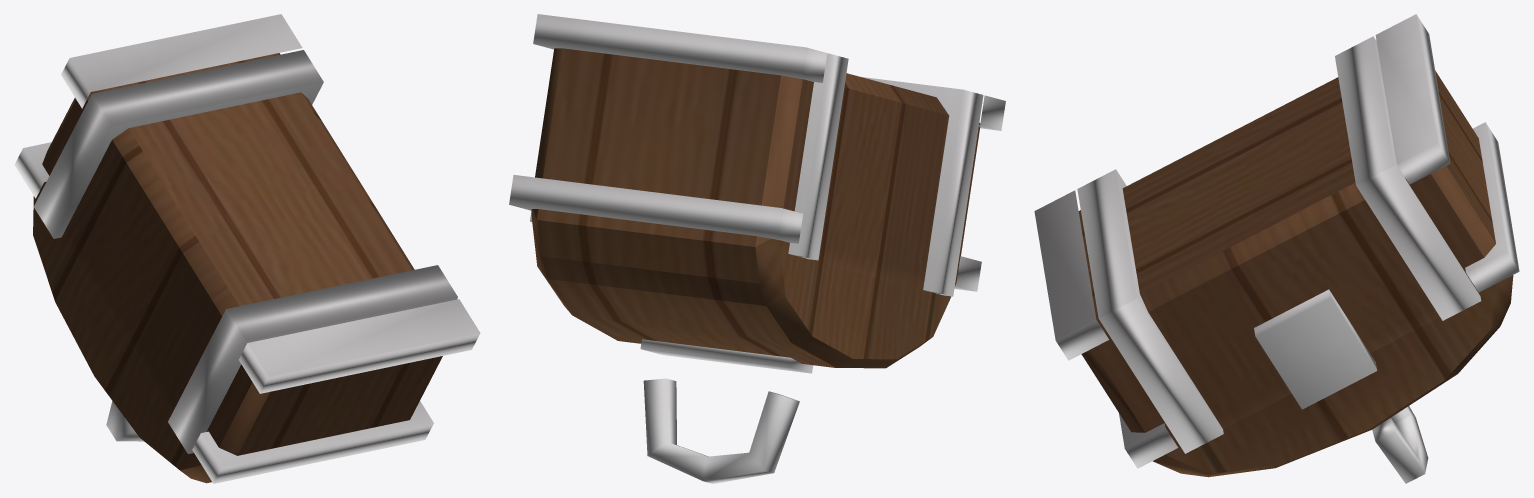
File: cargo.t5.glb
3 renders of one model, left to right at view 1: azimuth 30°, elevation 25°; view 2: azimuth 150°, elevation 25°; view 3: azimuth 270°, elevation 25°, orthographic. The views are drawn at different scales.
Parts seen in each view (by area): view 1: courier.cargo.t5; view 2: courier.cargo.t5; view 3: courier.cargo.t5.
Boxes of the visible parts, bbox=[...] form: courier.cargo.t5: bbox=[14, 14, 480, 483]; courier.cargo.t5: bbox=[509, 14, 1005, 483]; courier.cargo.t5: bbox=[1034, 14, 1519, 483].
Size of the model in its own units: 0.2417 by 0.3706 by 0.3956.
Materials: 2 (2 with a texture image).
